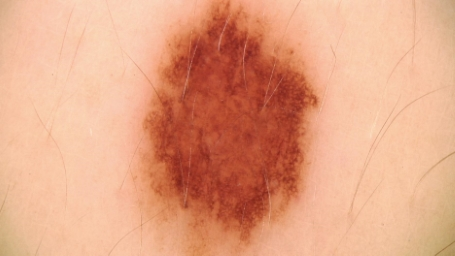melanoma: (145, 13, 317, 245)
